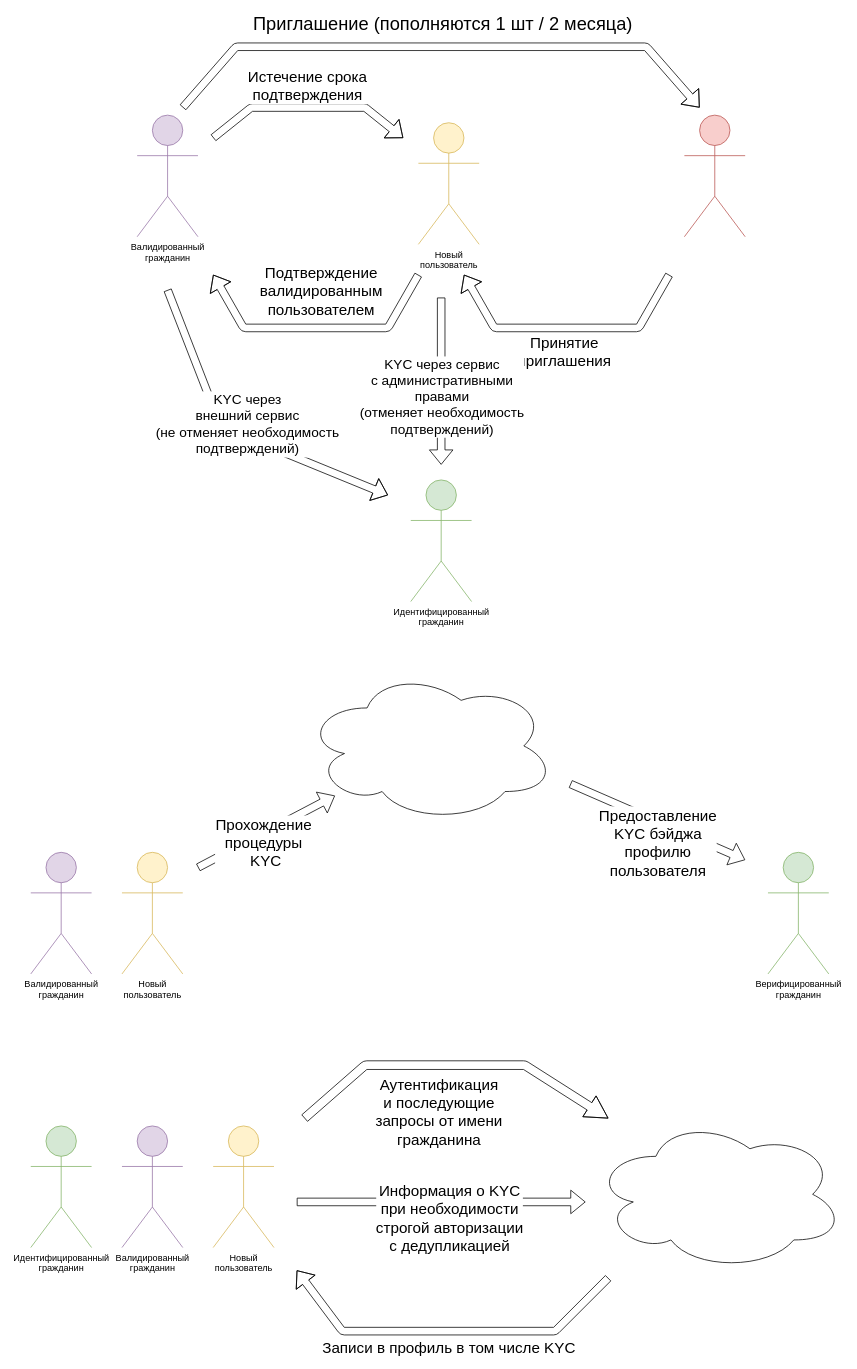
Some shapes in this 857 by 1369 pixel diagram are drawn without their labels. The box of each missing label's shape, as (x1, y1, x2, y2) in pixels:
Внешний сервис: (592, 1118, 844, 1270)
Внешний сервис с возможностями KYC: (304, 669, 555, 822)
Желающий зарегистрироваться: (684, 114, 745, 237)
